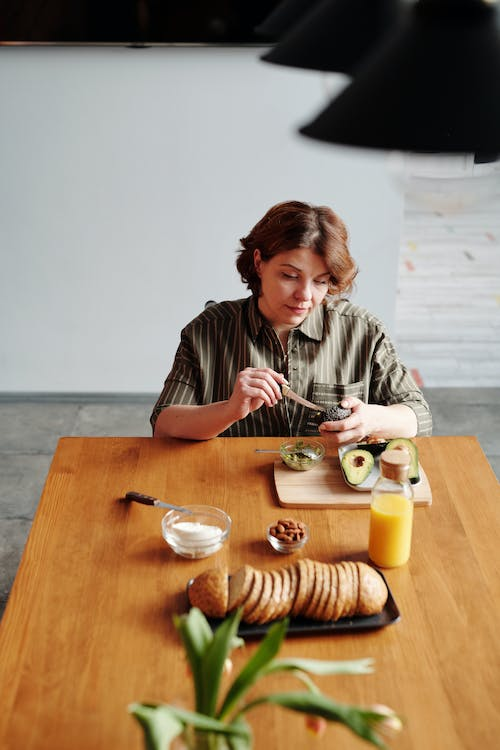knife: (279, 382, 327, 413)
